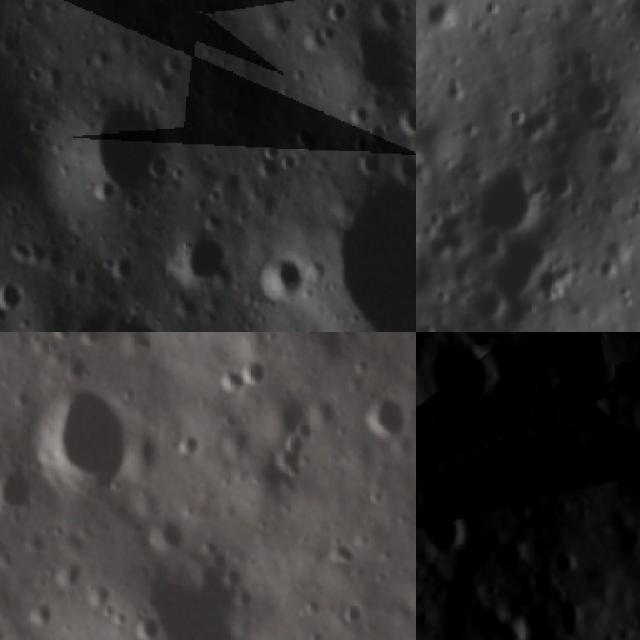crater: (327, 167, 416, 332), (36, 385, 142, 504), (473, 223, 565, 329), (416, 332, 517, 426), (86, 99, 171, 208), (471, 154, 540, 239), (348, 379, 416, 451), (416, 492, 482, 566), (596, 418, 640, 518), (569, 72, 626, 135), (0, 463, 47, 526), (140, 512, 194, 562), (176, 236, 222, 293), (254, 250, 303, 302), (87, 305, 175, 332), (200, 358, 250, 398), (235, 347, 278, 392), (540, 162, 578, 210), (420, 0, 463, 42), (546, 537, 586, 580), (591, 144, 633, 180), (510, 367, 549, 402), (0, 275, 29, 322), (27, 597, 59, 635), (127, 613, 162, 640)
